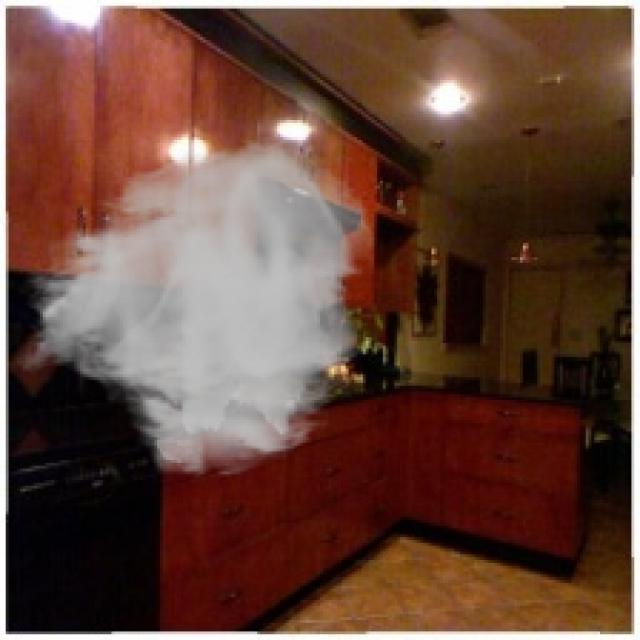Smoke: (14, 134, 377, 480)
